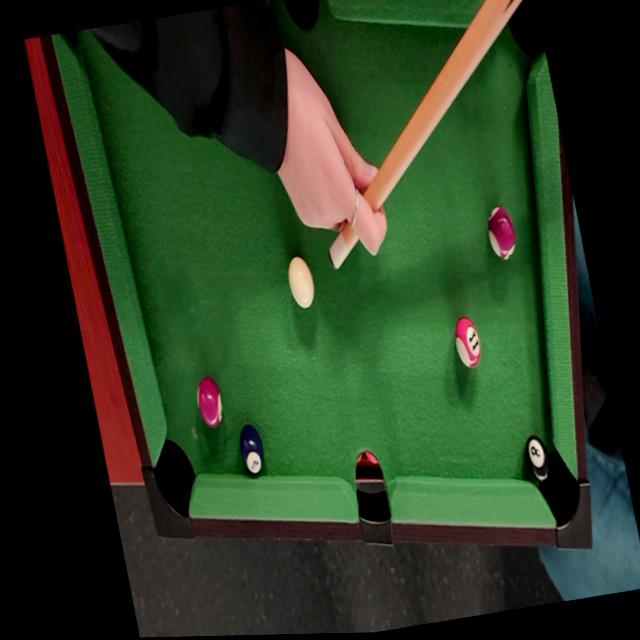cue ball: (283, 255, 322, 315)
other: (482, 205, 525, 268), (191, 369, 228, 431), (233, 421, 268, 485), (448, 312, 486, 369), (520, 426, 554, 484)
